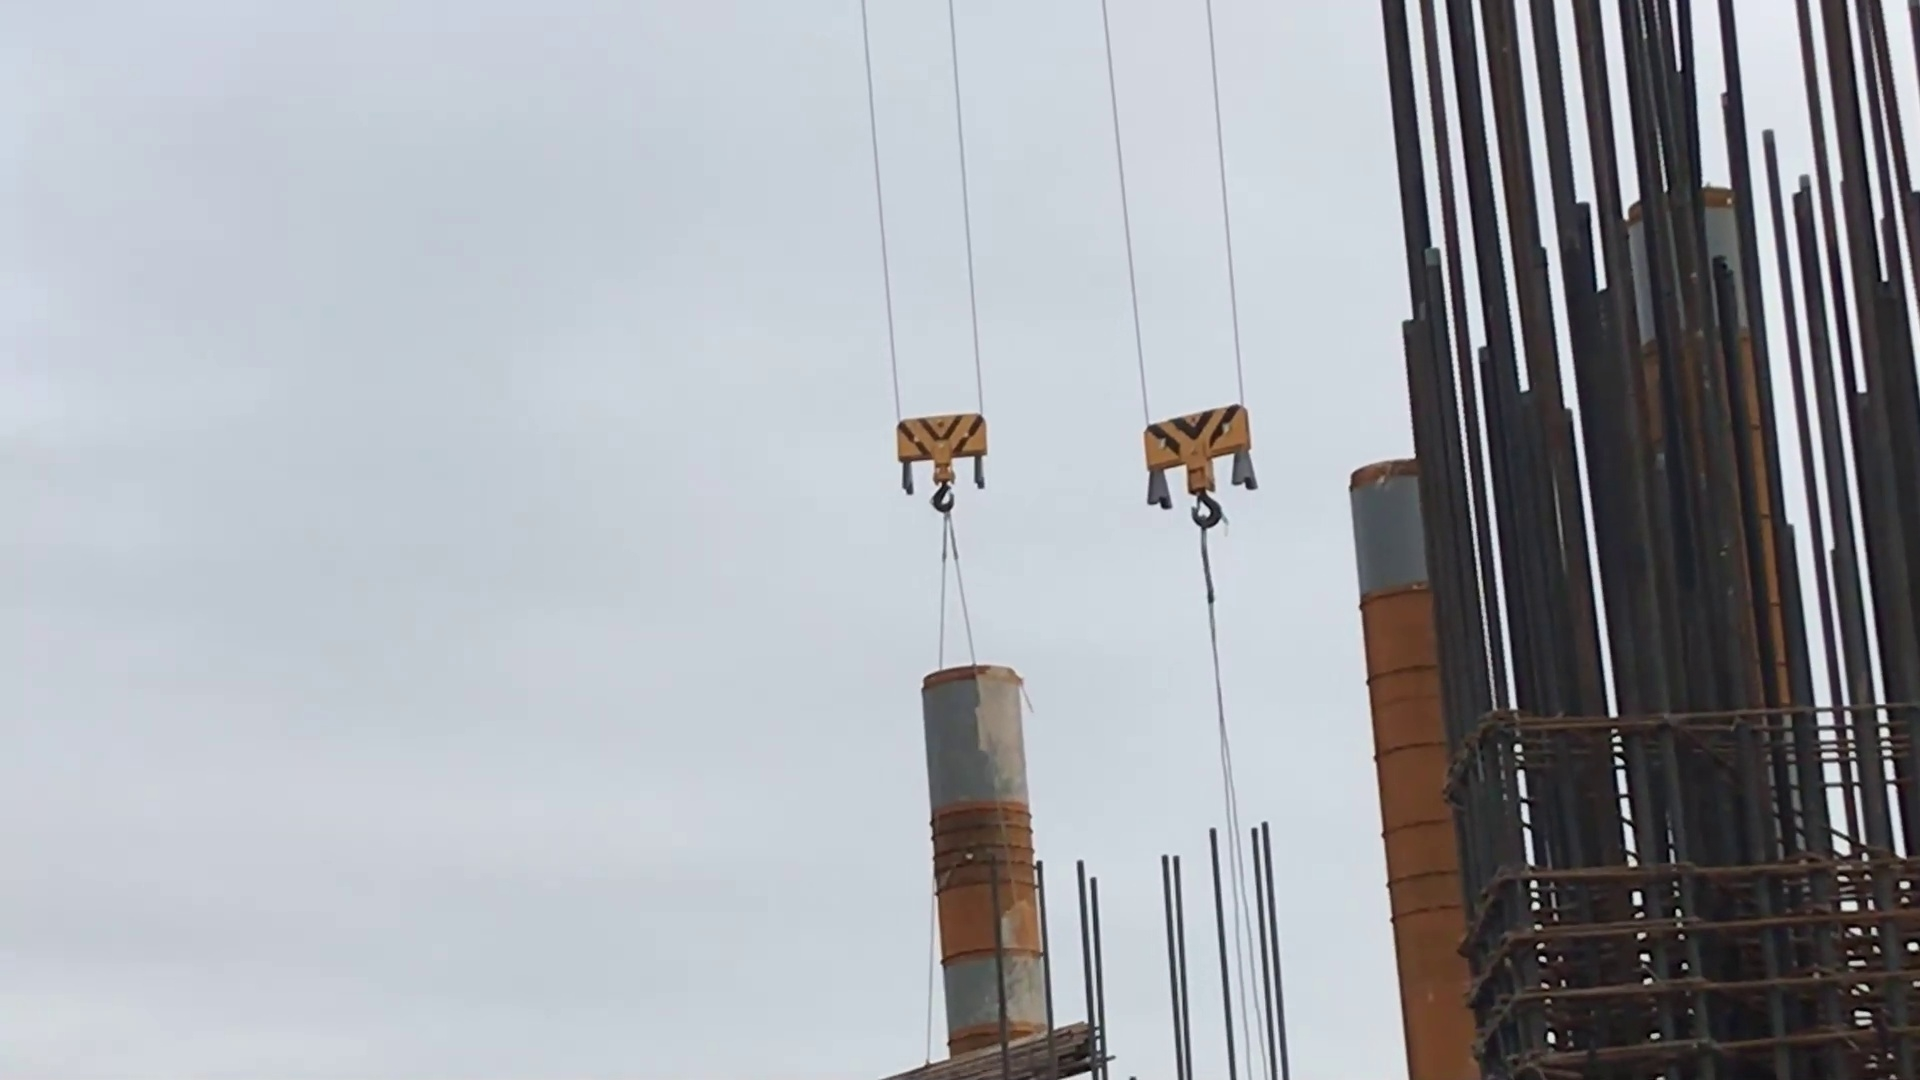hook: (1139, 404, 1259, 533), (891, 407, 988, 517)
